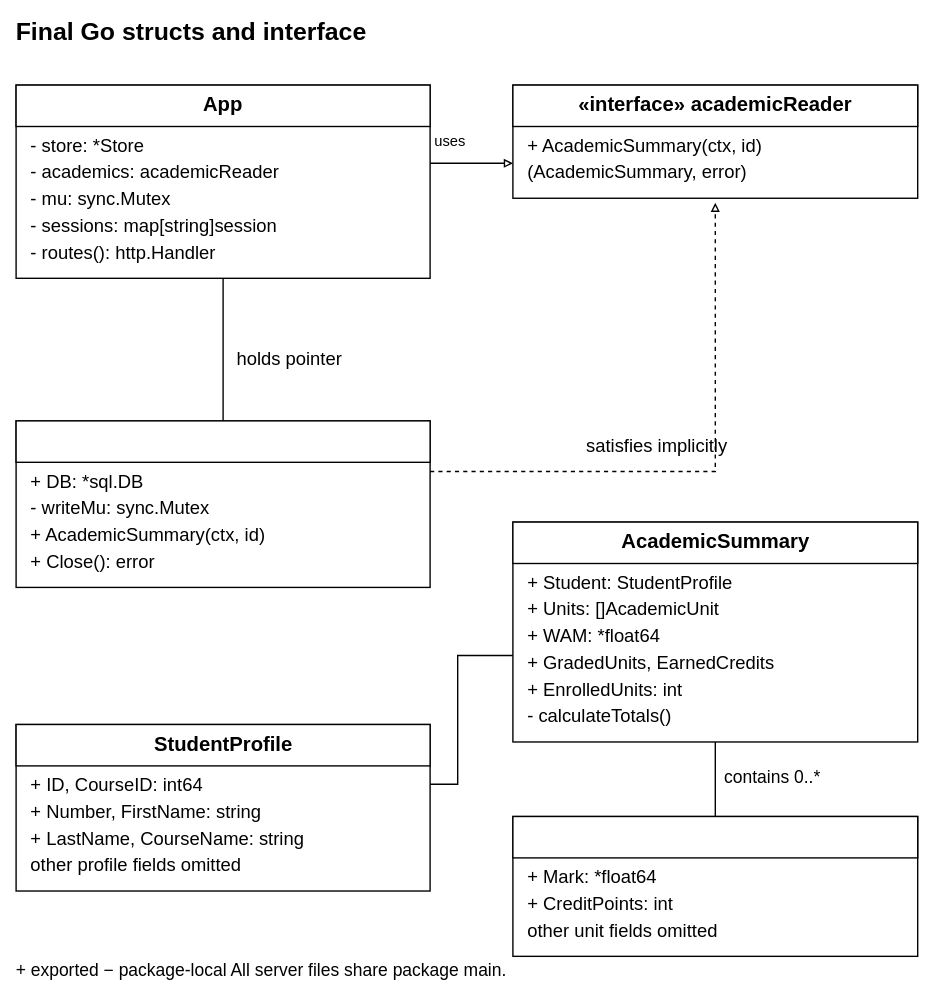
Some shapes in this 935 by 998 pixel diagram are drawn without their labels. Each missing label, with the box of its shape:
AcademicUnit: (512, 815, 918, 858)
Store: (15, 420, 430, 463)
